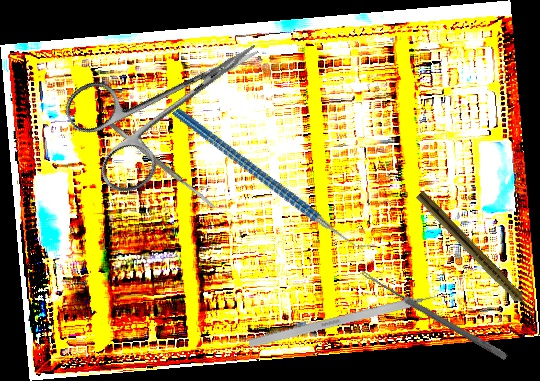Chopper: (171, 58, 378, 299)
Handpiece: (413, 190, 539, 320)
Hook Surgical: (247, 287, 456, 349)
Iris Scissors: (58, 1, 288, 202)
Spatula Surgical: (105, 118, 217, 211)
Surgical Spoon: (359, 269, 509, 361)
